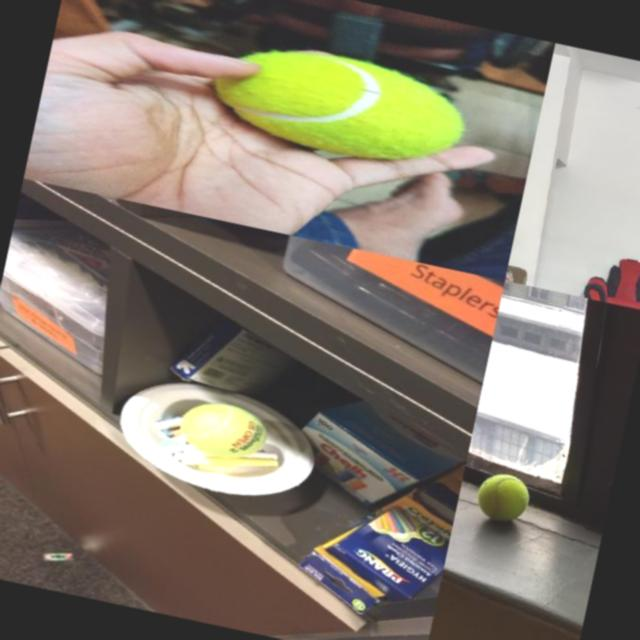tennis-ball: (206, 32, 472, 176), (175, 394, 272, 466), (472, 468, 532, 526)
